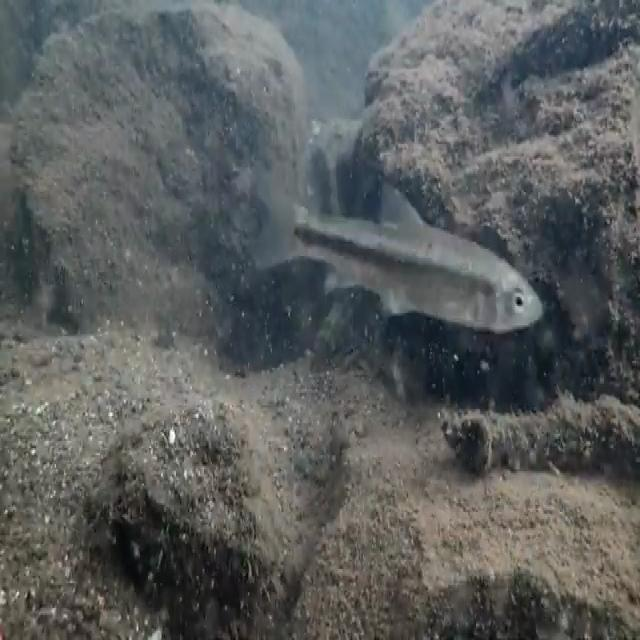Cakil Baligi: (248, 168, 545, 342)
